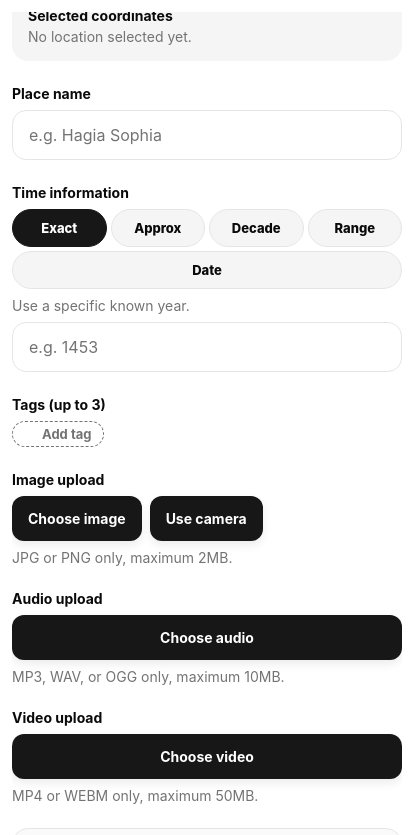
it: SubmissionScreen › offers to create a slugged tag from the tag picker search
(page scrolled)
Click the button labelled "Add tag".
click(58, 434)  # box [12,421,104,447]
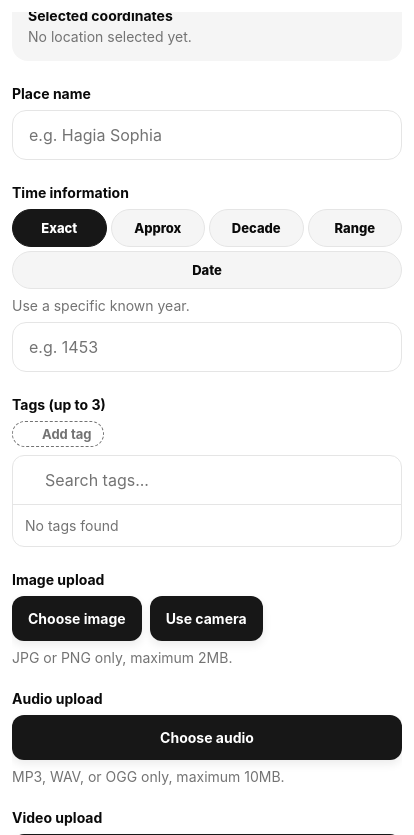
Type "My New Tag" into the field named "Tag search input".
click(204, 480); type("My New Tag")  # box [45,460,363,500]
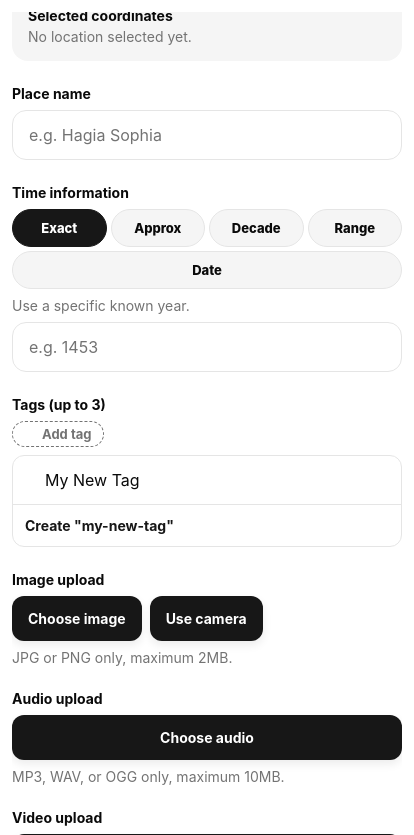
Click the button with aria-label "Create tag my-new-tag".
click(53, 526)  # box [17,509,397,542]
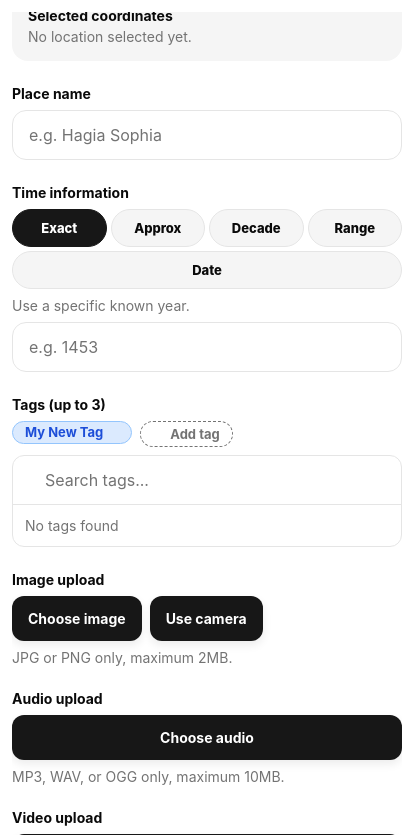
Expected: the button with aria-label "Remove tag My New Tag" is shown, [12,421,132,444]
